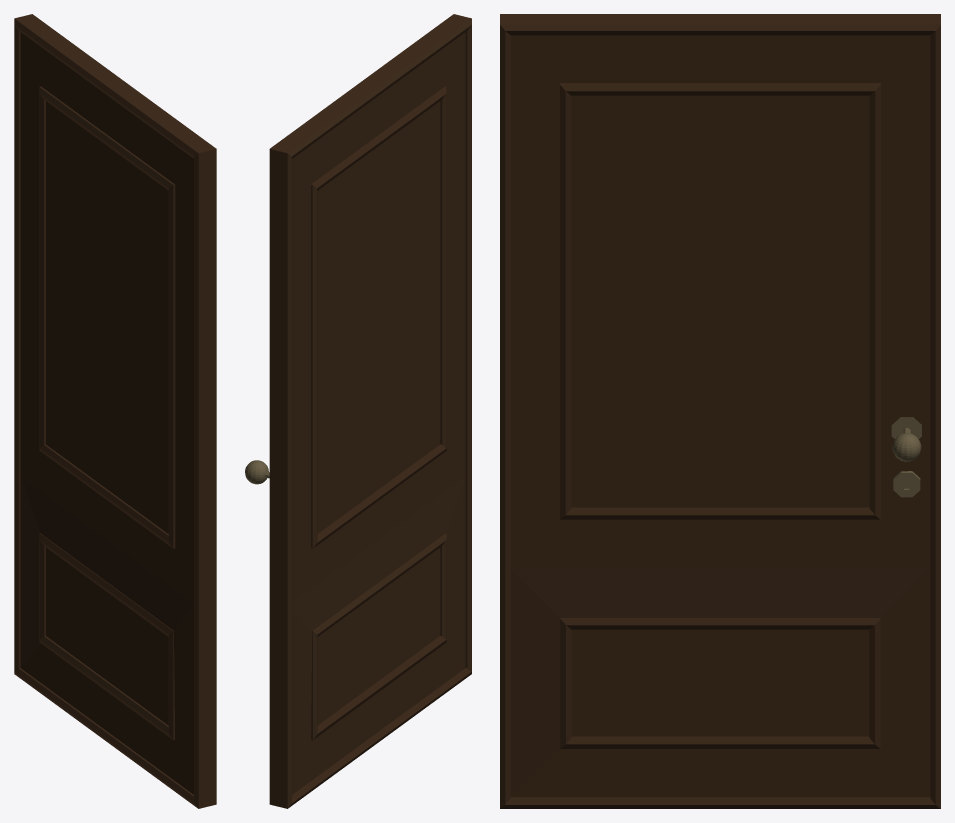
Rendered from Türe.fbx.
3 renders of one model, left to right at view 1: azimuth 30°, elevation 25°; view 2: azimuth 150°, elevation 25°; view 3: azimuth 270°, elevation 25°, orthographic. The views are drawn at different scales.
Visible parts, largest first — view 1: Tür; view 2: Tür; view 3: Tür.
Boxes of the visible parts, x1=… form: Tür: x1=14, y1=14, x2=216, y2=808; Tür: x1=245, y1=14, x2=471, y2=808; Tür: x1=500, y1=14, x2=940, y2=808.
Size of the model in its own units: 22.91 by 250 by 127.
